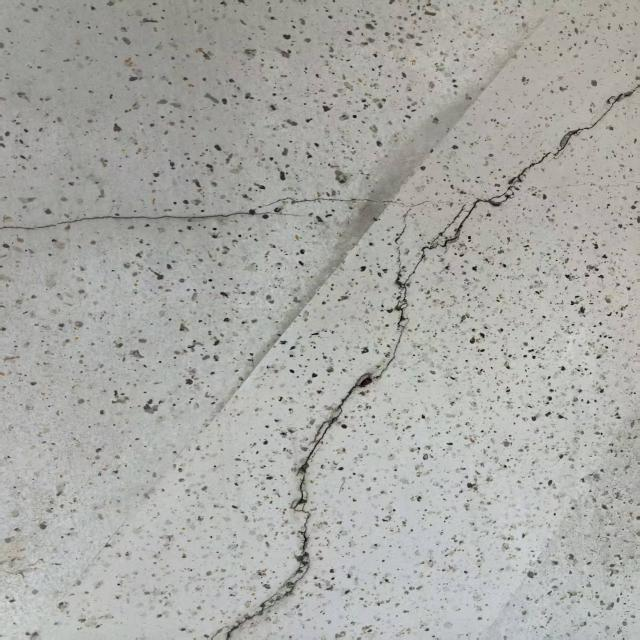crack: (8, 79, 633, 636)
